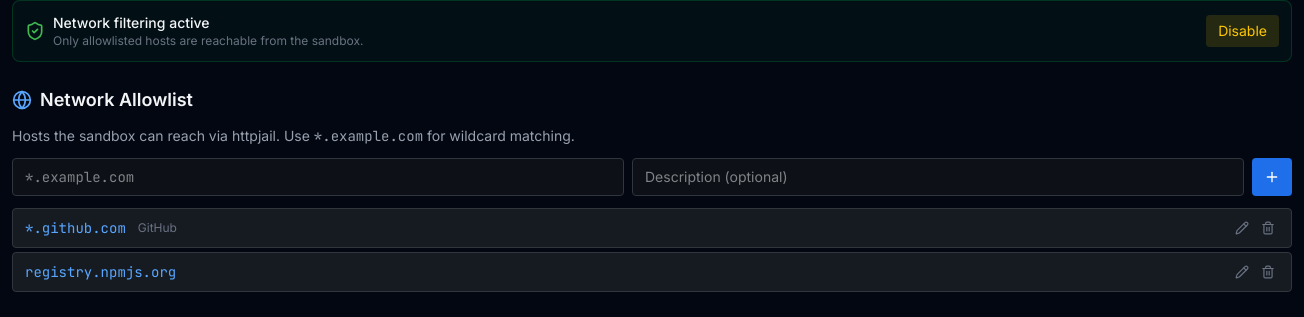
Test: Allowlist › enters edit mode when edit button is clicked
Check: the text "*.github.com" is shown, box [25, 218, 126, 238]
Click the button named "Edit" in the row of "*.github.com" at [1242, 228], box [1231, 217, 1253, 239]
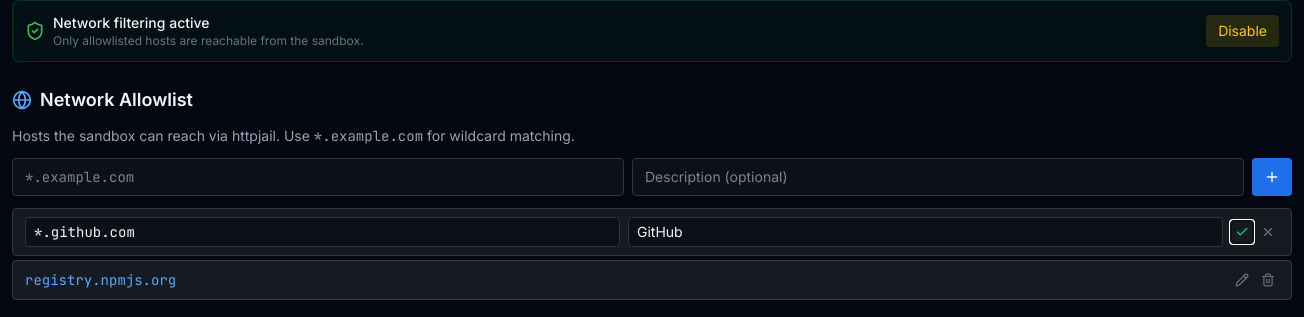
Check: the 3rd field is shown, box [25, 217, 620, 247]
